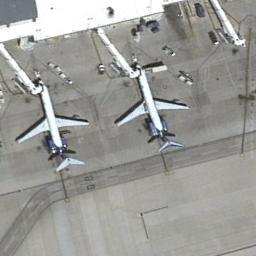Airplane: (8, 72, 94, 175), (115, 61, 195, 158)
